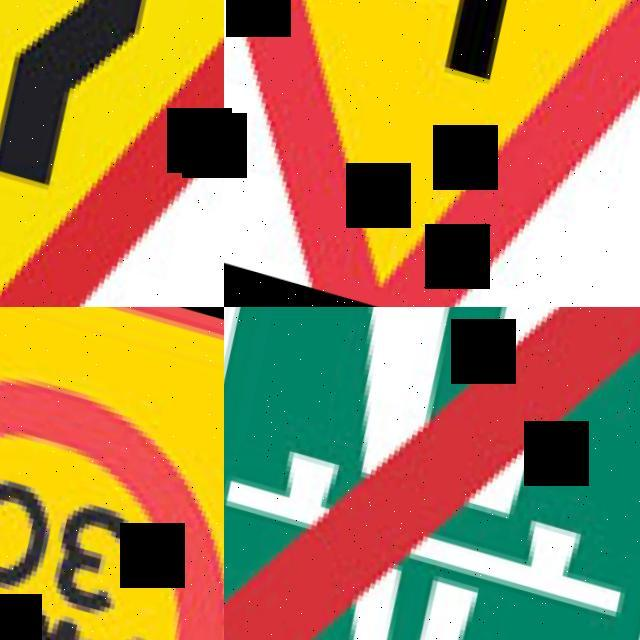131: (0, 0, 224, 307)
166: (224, 0, 640, 307)
76: (224, 307, 640, 640)
axle weight limit 30tonnes: (0, 307, 224, 640)
